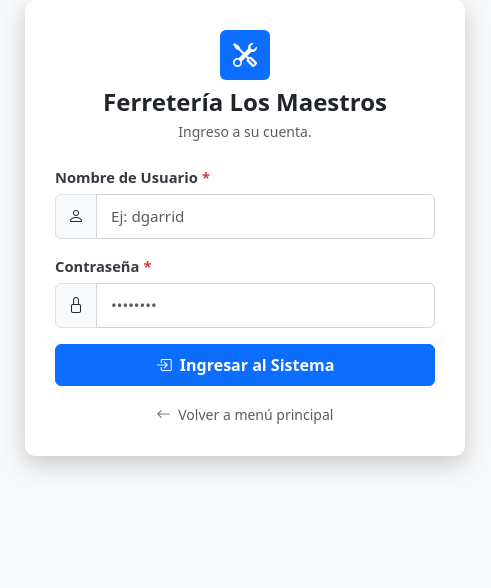
Test case: FormularioAcceso › rechaza credenciales incorrectas y deja la sesión sin iniciar
Type "mvendedor" into the field labelled "Nombre de Usuario *" at (266, 216), box [96,194,435,239]
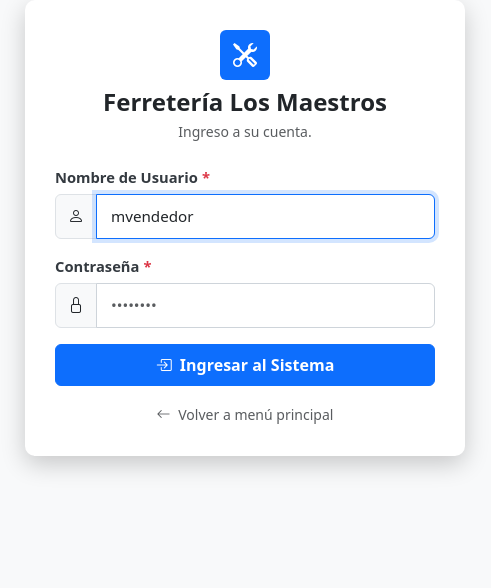
Type "incorrecta" into the password field labelled "Contraseña *" at (266, 305), box [96,283,435,328]
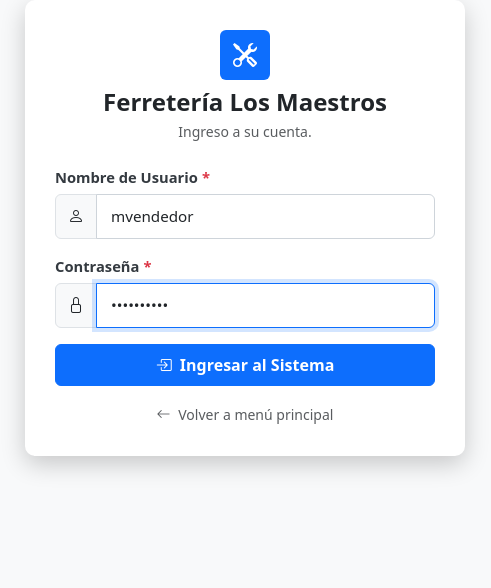
Click the button "Ingresar al Sistema" at (245, 364), box [55,344,435,386]
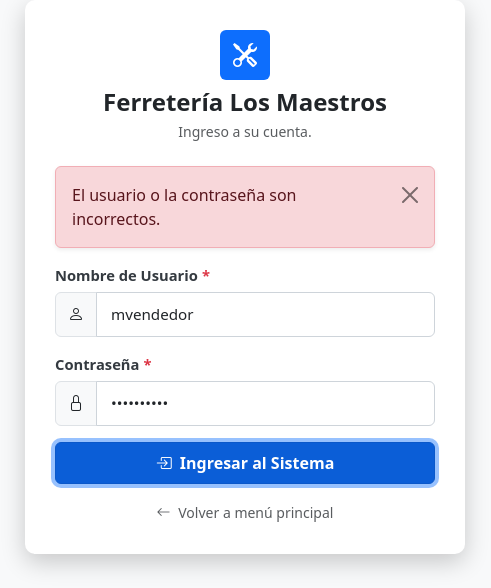
Now the text "El usuario o la contraseña son incorrectos." is shown, box [72,184,296,230]
